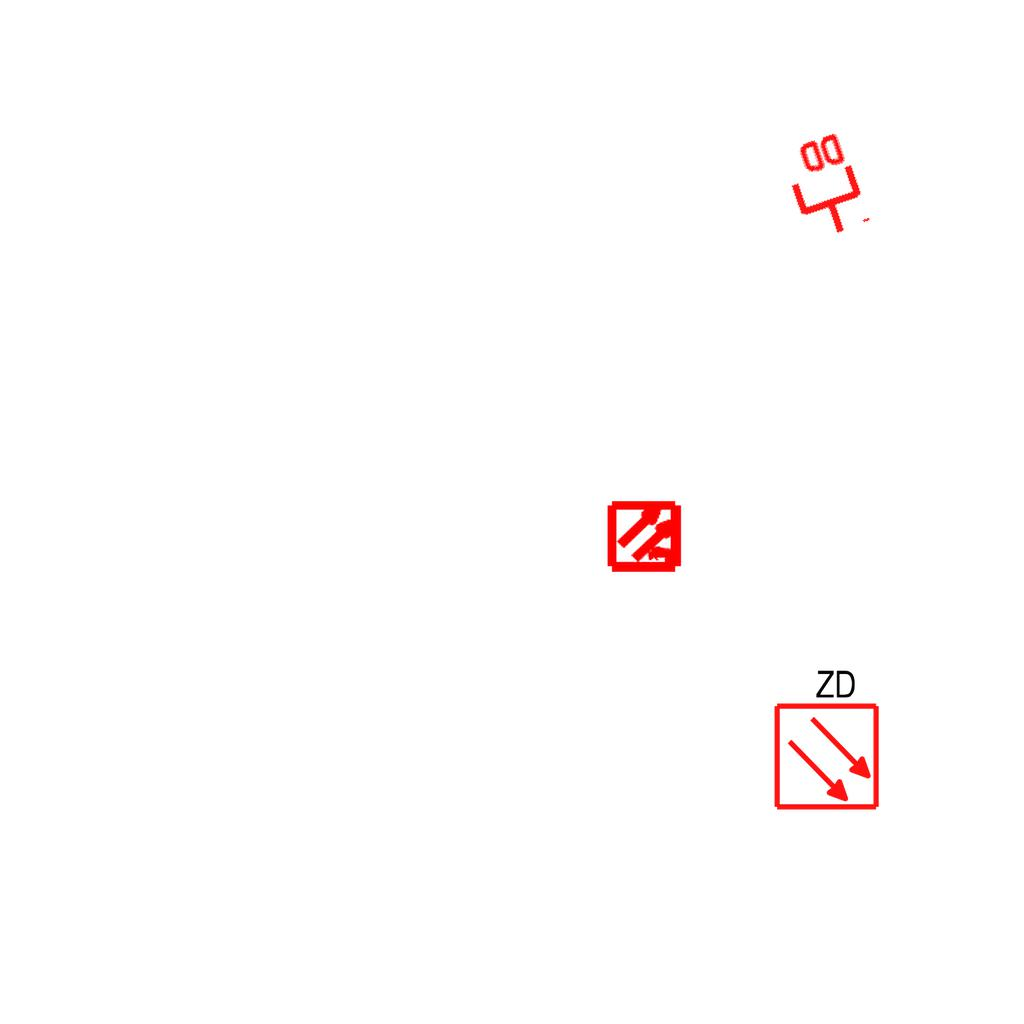Datenanschluss_zweifach: (774, 126, 873, 247)
OT_Multisensormelder_(Kombination_RMO_WMD): (590, 480, 703, 593)
ZD_Melder_in_Zwischendecke_mit_Revisionsoeffnung_mind_40_x_40_cm: (768, 663, 882, 812)
